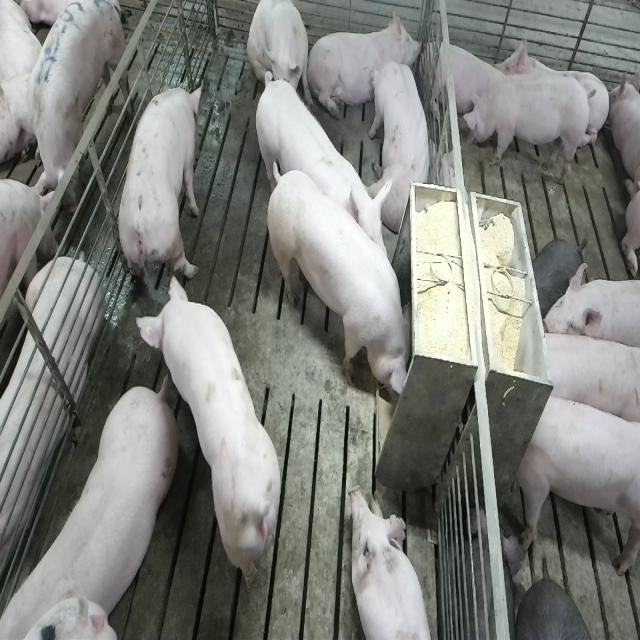Feeding: (270, 168, 422, 404)
Sitting: (371, 59, 435, 229), (247, 1, 311, 112)
Standing: (141, 277, 288, 596), (5, 376, 182, 635), (250, 70, 386, 271), (516, 385, 638, 583), (24, 0, 123, 213), (117, 79, 205, 295), (460, 76, 590, 186), (535, 330, 637, 431), (541, 266, 640, 354)
Sternal_lying: (500, 28, 610, 151), (348, 485, 433, 640), (312, 8, 423, 121), (428, 35, 506, 126)
